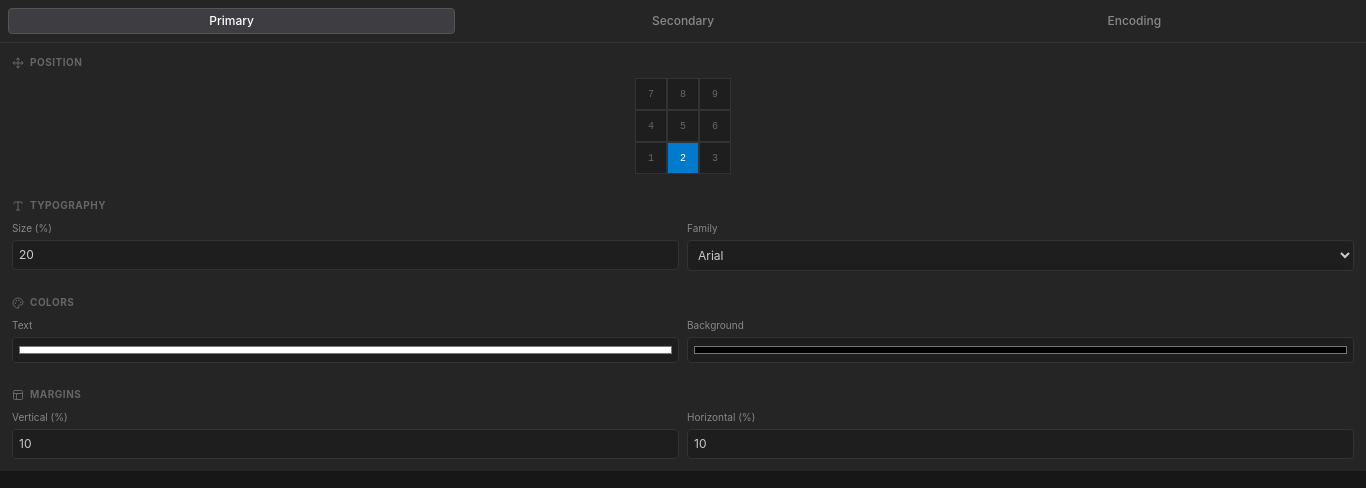
it: ConfigPanel › switches tabs
Click the button "Secondary" at (683, 21), box [459,8,907,34]
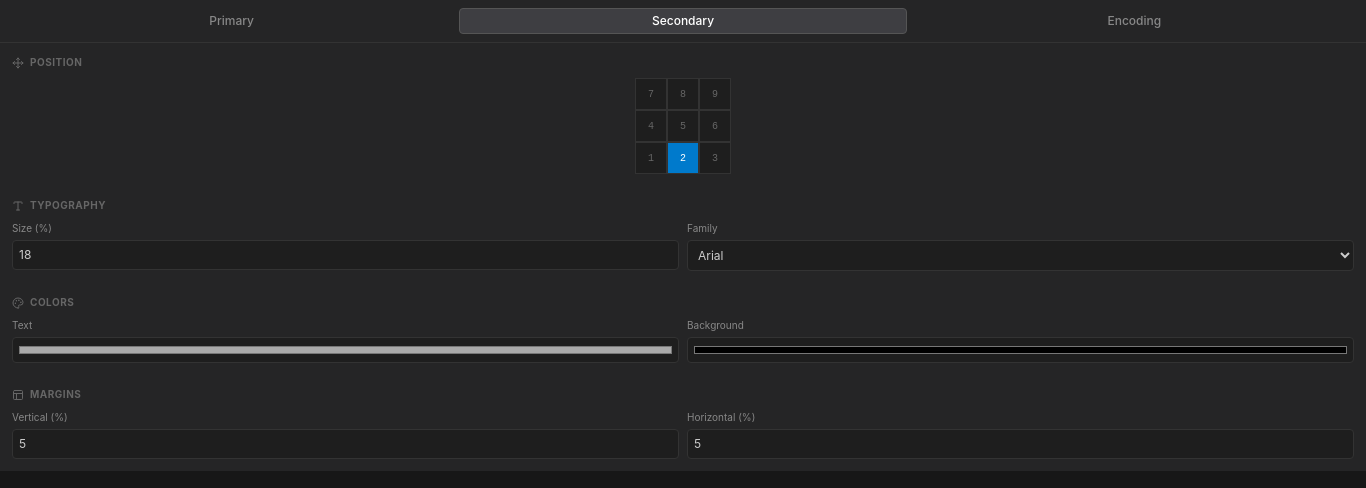
Check: the number field showing "18" below "Size (%)" is shown, box [12,240,679,270]
Click the button "Encoding" at (1134, 21), box [911,8,1358,34]
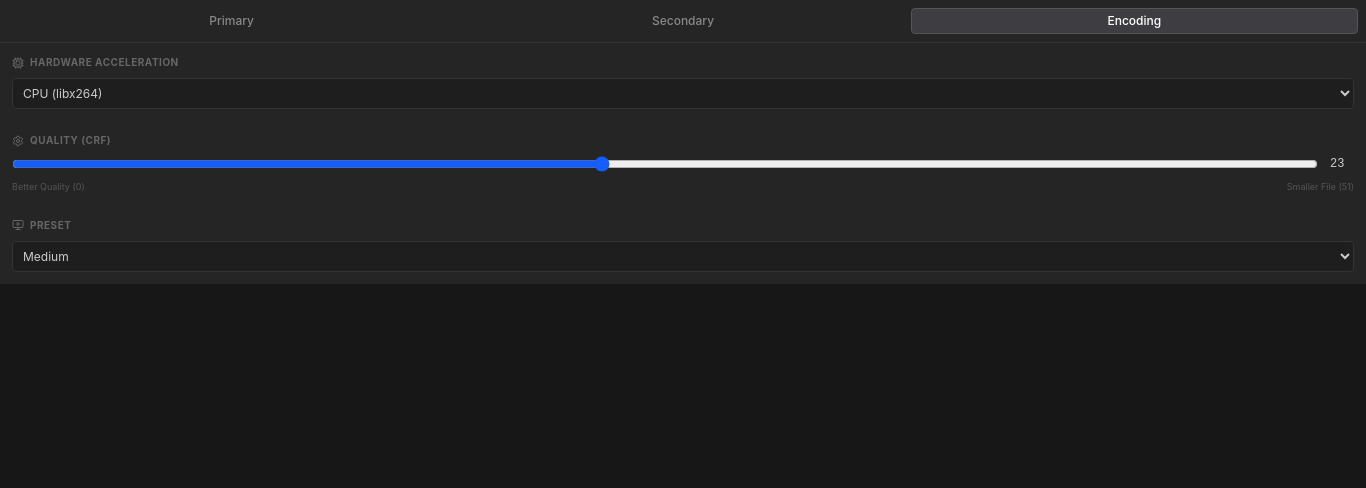
Check: the slider showing "23" is shown, box [12,156,1318,172]
